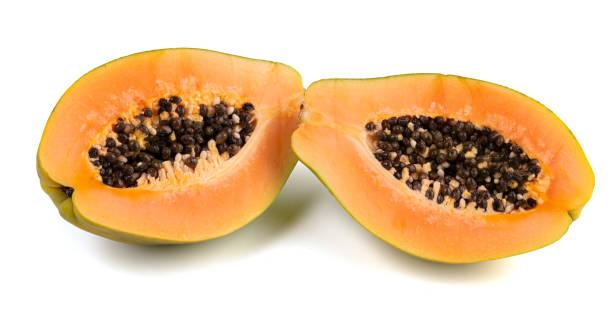papaya: (290, 74, 599, 273), (28, 38, 305, 250)
